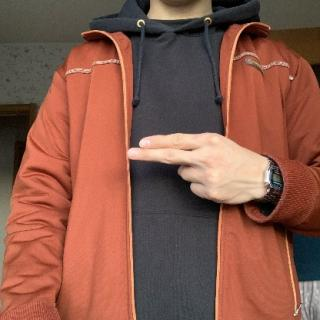AYN: (124, 129, 268, 207)
